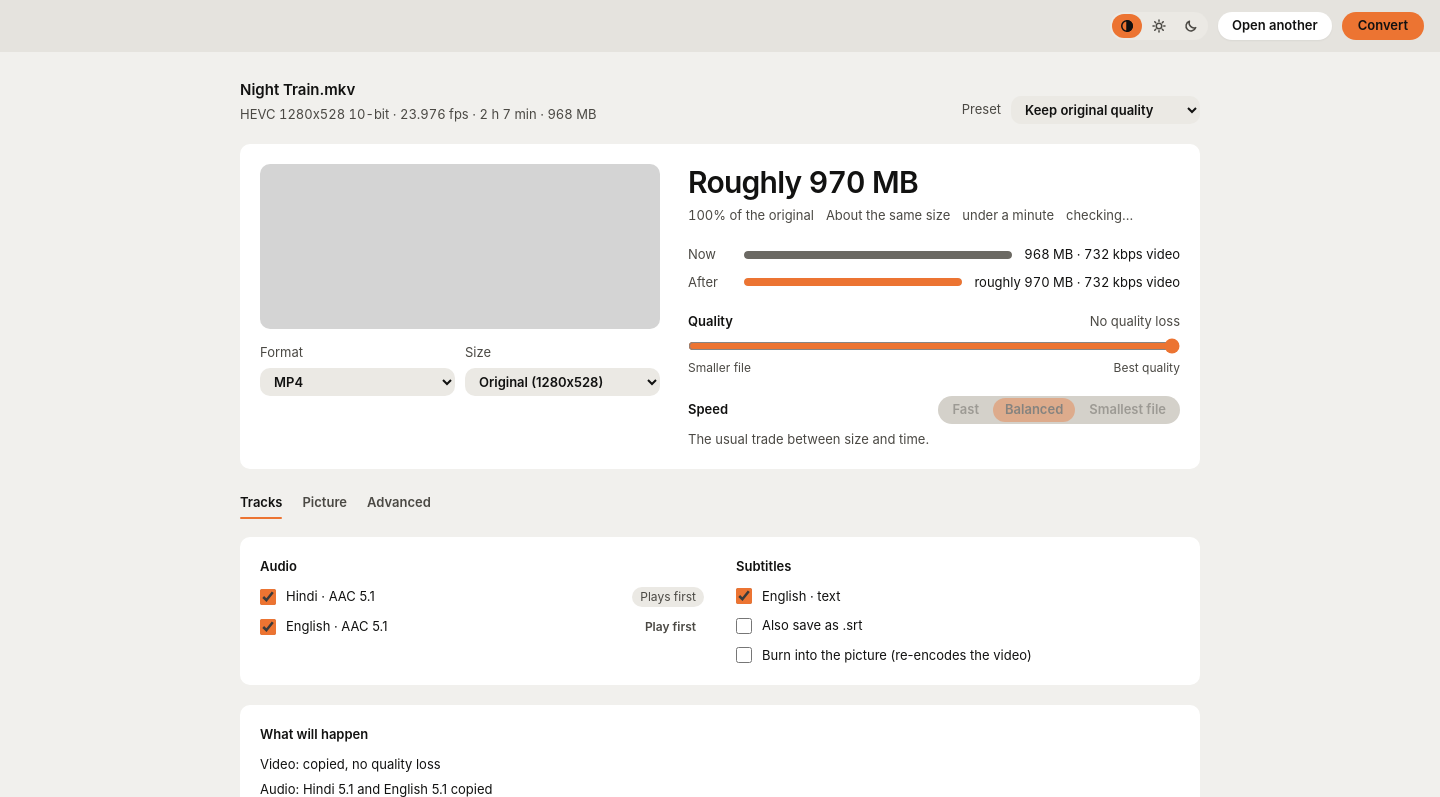
the settings tabs › sets a target size in Picture, which hands the size over from the slider
Click the tab "Picture" at (325, 503), box [302,489,347,517]
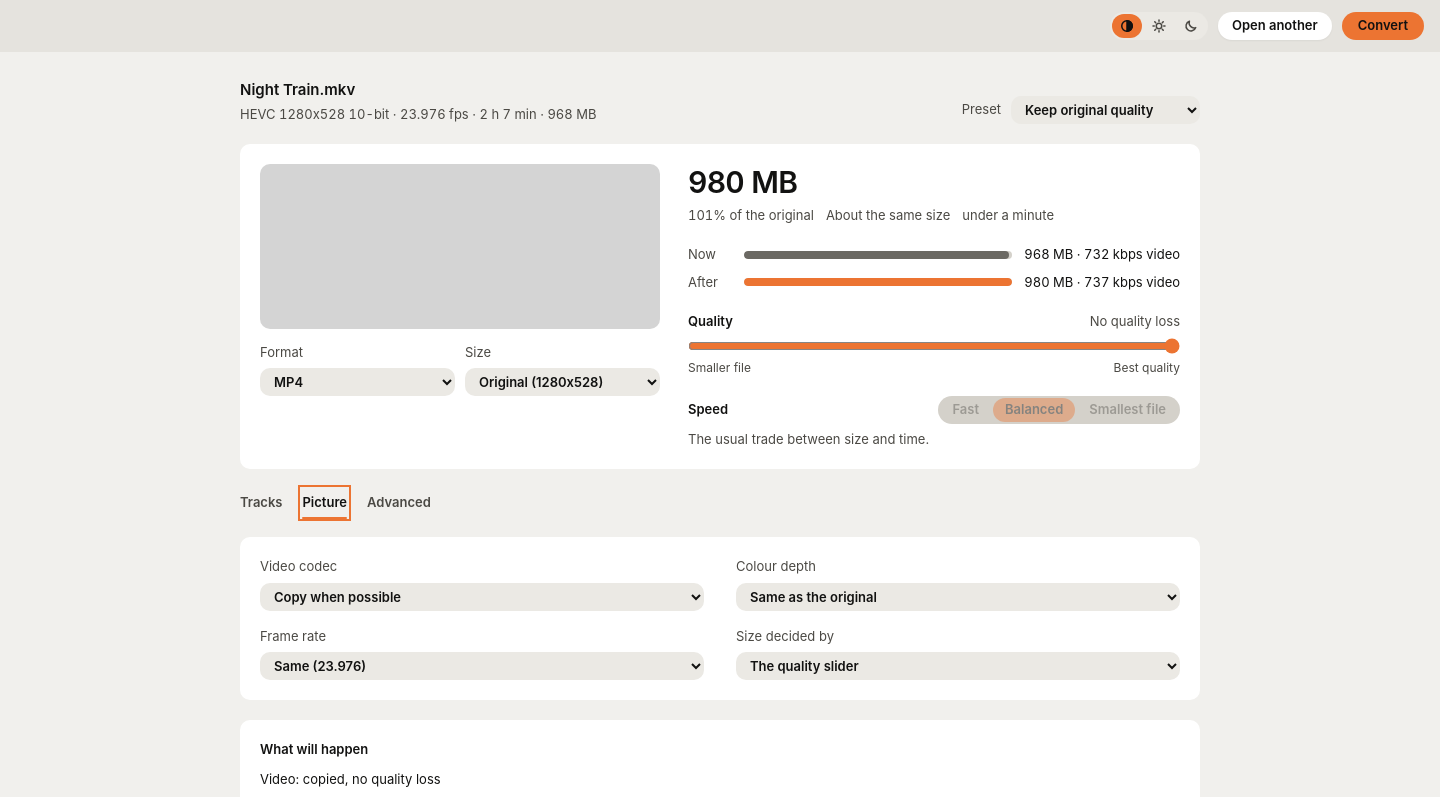
Select "A target size" in the dropdown labelled "Size decided by" at (958, 666), box [736,652,1180,680]
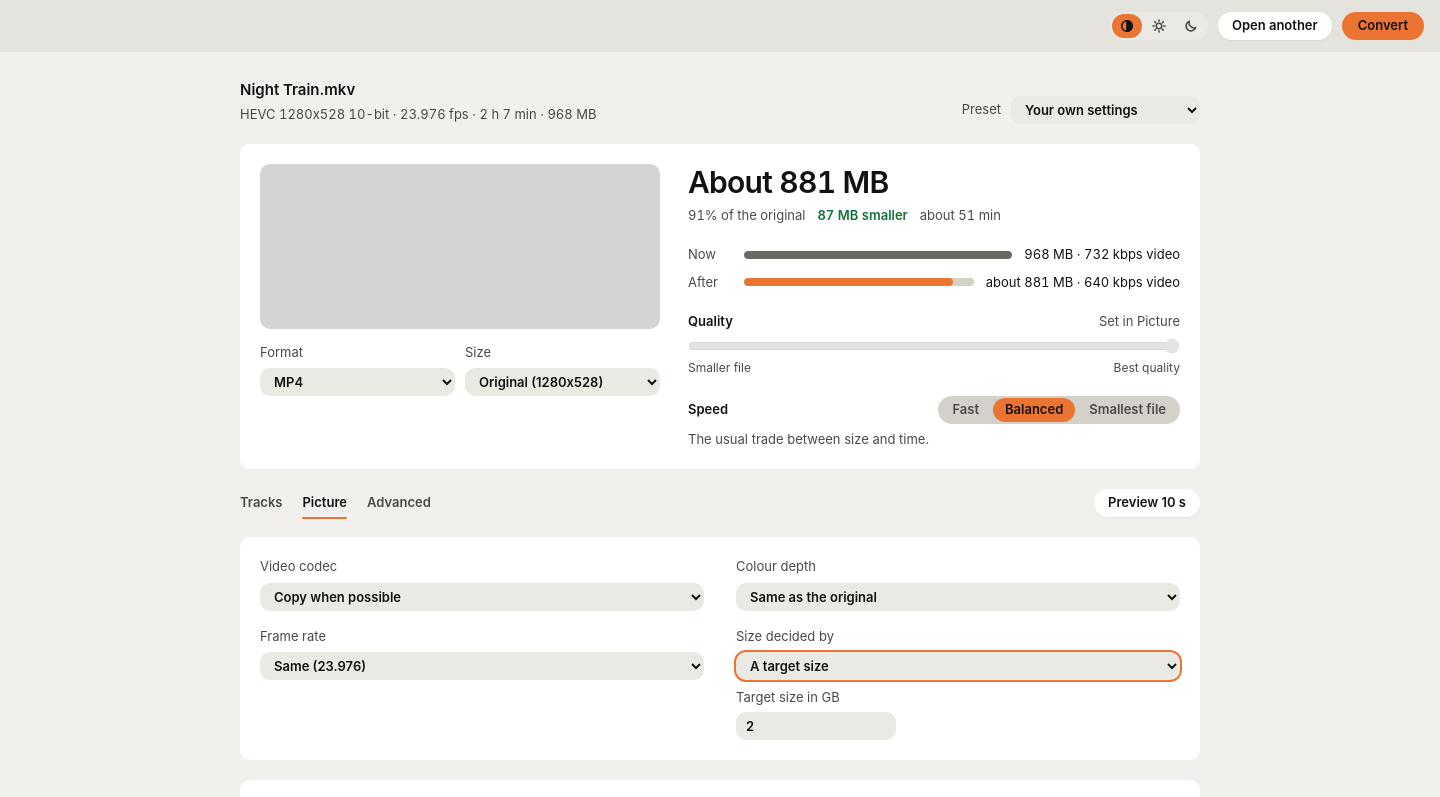
Now the number field labelled "Target size in GB" holds "2", box [736,712,896,740]
Now the slider labelled "Quality" is disabled, box [688,338,1180,354]
Now the text "Set in Picture" is shown, box [1099,312,1180,332]
